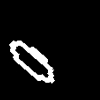chain: (10, 41, 54, 82)
